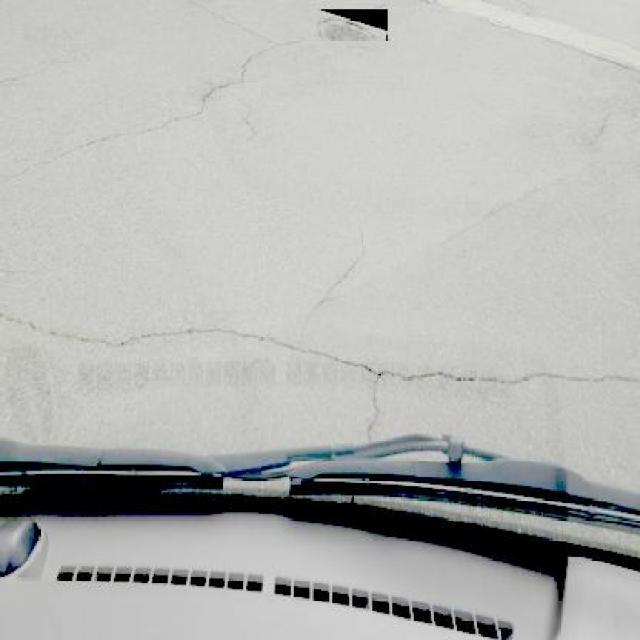Manhole: (317, 9, 388, 40)
